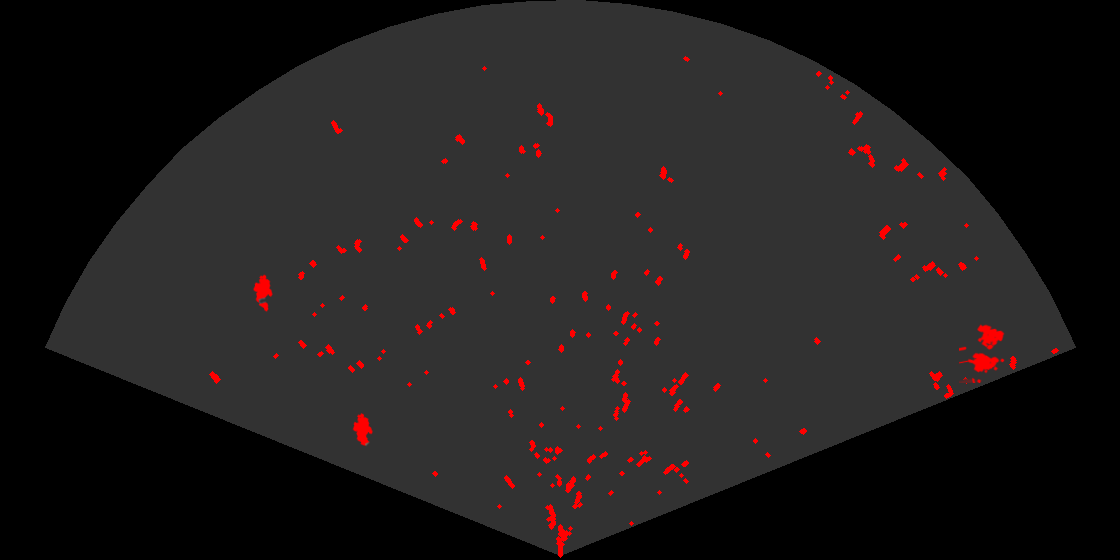AUV: (251, 273, 274, 314), (351, 411, 374, 447)
cage: (959, 323, 1006, 383)
